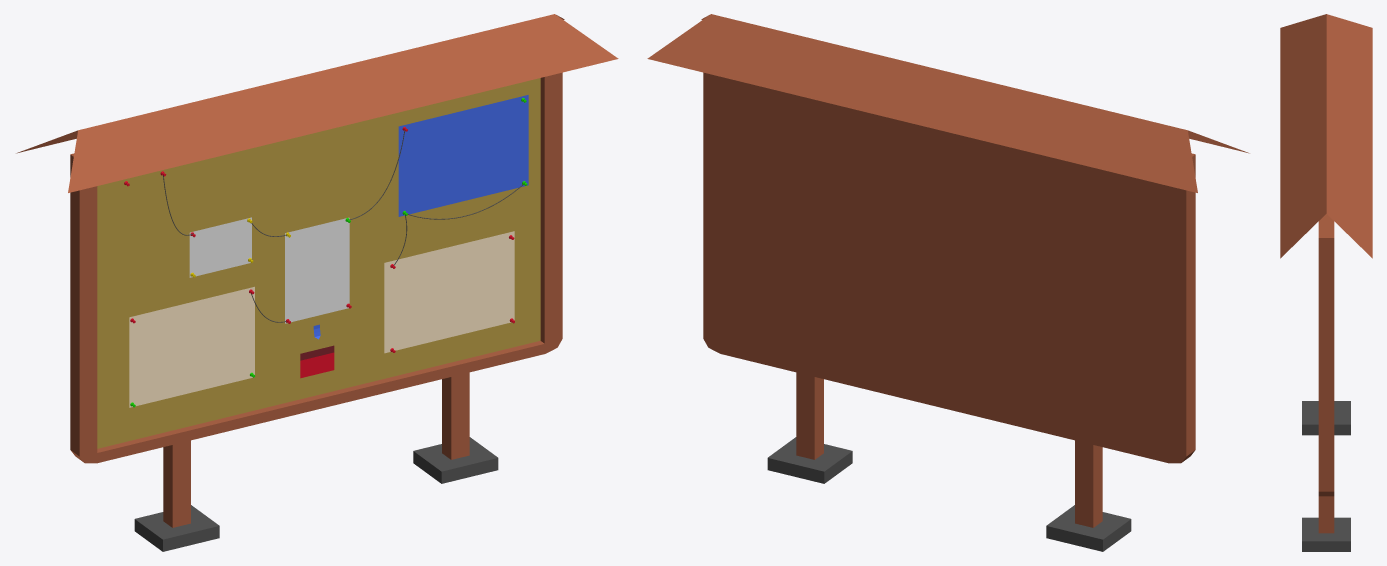
The model's file is Papan Menu.fbx.
3 renders of one model, left to right at view 1: azimuth 30°, elevation 25°; view 2: azimuth 150°, elevation 25°; view 3: azimuth 270°, elevation 25°, orthographic. The views are drawn at different scales.
Visible parts, largest first — view 1: Papan, Ui gambar.001; view 2: Papan; view 3: Papan.
Boxes of the visible parts, left/top/right/bottom form: Papan: left=16, top=14, right=618, bottom=551; Ui gambar.001: left=129, top=95, right=528, bottom=407; Papan: left=647, top=14, right=1249, bottom=551; Papan: left=1280, top=14, right=1372, bottom=551.
Bounding box in the file's own units: 1185 × 881 × 200.
